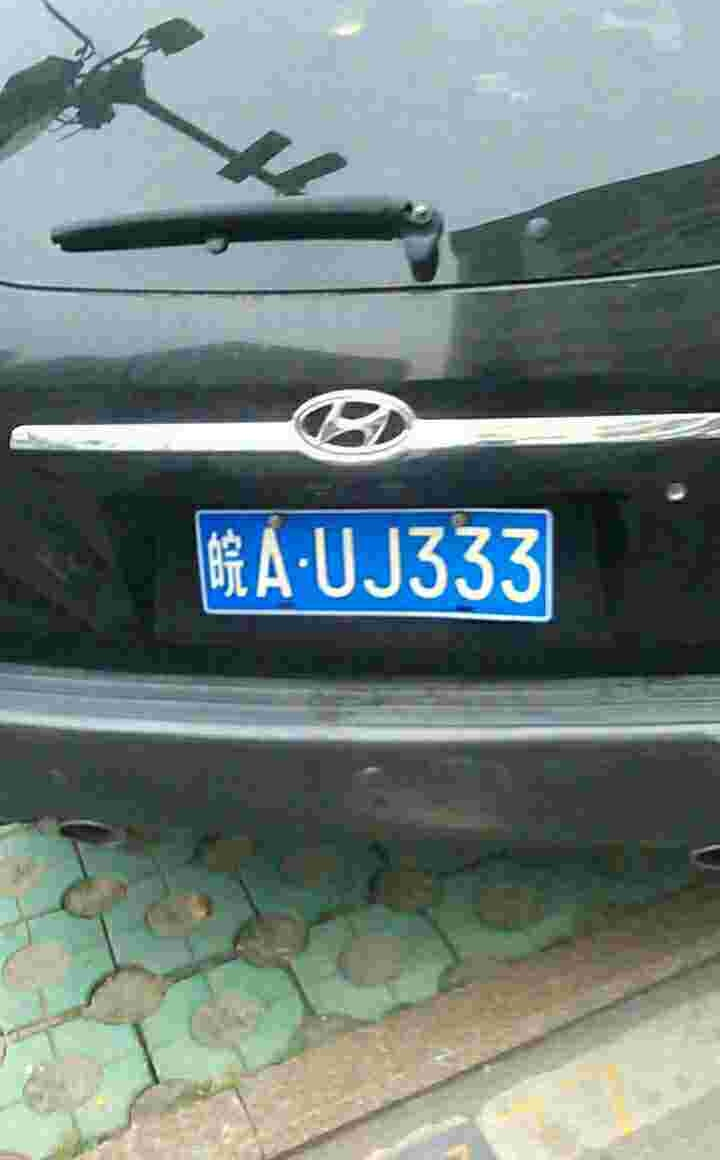license_plate: (189, 514, 553, 618)
